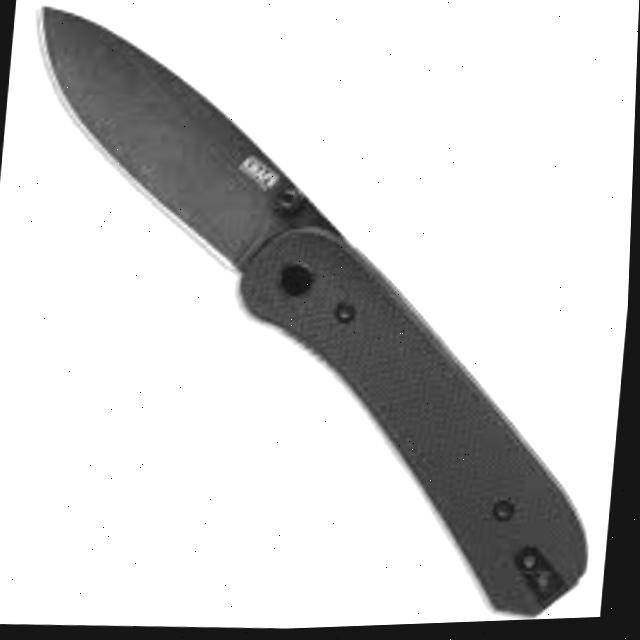Knife: (0, 0, 638, 640)
